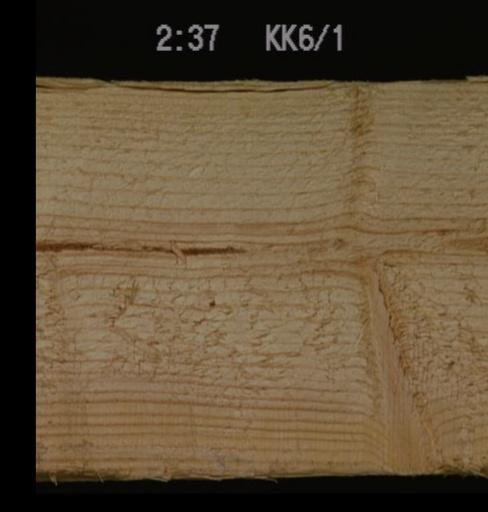split: (35, 79, 338, 97)
